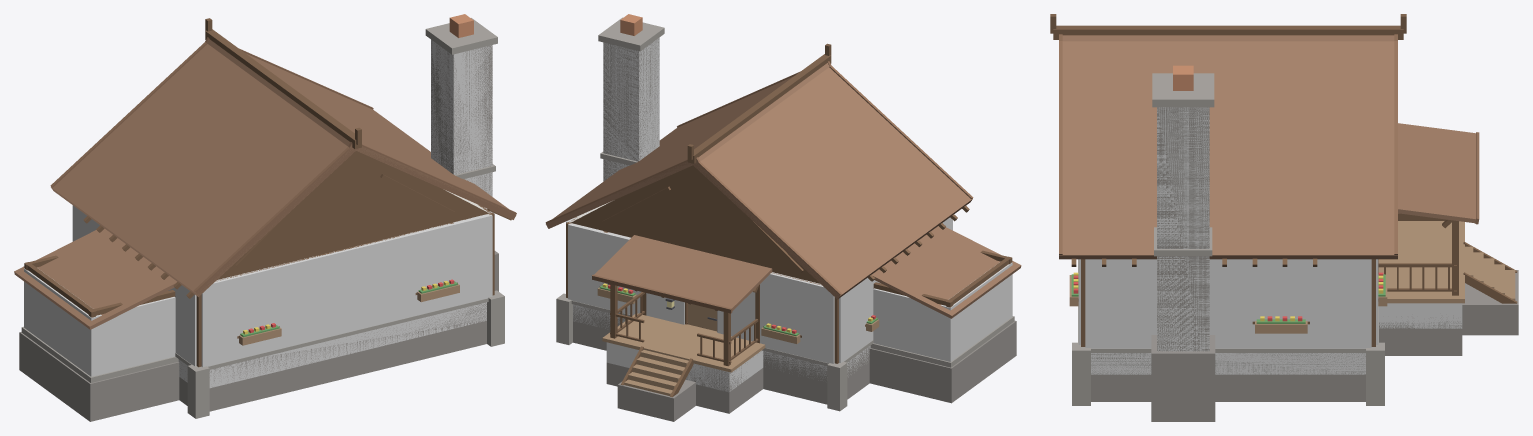
The model's file is farmhouse_exterior.glb.
3 renders of one model, left to right at view 1: azimuth 30°, elevation 25°; view 2: azimuth 150°, elevation 25°; view 3: azimuth 270°, elevation 25°, orthographic. The views are drawn at different scales.
Parts seen in each view (by area): view 1: Roof_Slope_West, wall_north-col, Gable_North, Foundation_Plinth, shed-col, chimney-col, Woodshed_Roof, Roof_Slope_East, Woodshed_Foundation, foundation-col, Chimney_Breast, wall_west-col (+11 smaller); view 2: Roof_Slope_West, Gable_South, Porch_Roof_Canopy, shed-col, chimney-col, Woodshed_Roof, wall_south_left-col, Roof_Slope_East, Woodshed_Foundation, Chimney_Breast, Foundation_Plinth, wall_south_right-col (+18 smaller); view 3: Roof_Slope_East, wall_east-col, Chimney_Breast, chimney-col, Foundation_Plinth, Porch_Roof_Canopy, Porch_Deck, Chimney_Plinth, foundation-col, Roof_Ridge_Beam, Porch_Foundation, Stair_Bed (+15 smaller).
Part boxes in pixels (bbox=[...]): Roof_Slope_West: bbox=[51, 44, 355, 296]; wall_north-col: bbox=[201, 213, 492, 367]; Gable_North: bbox=[217, 151, 489, 279]; Foundation_Plinth: bbox=[179, 303, 486, 411]; shed-col: bbox=[24, 268, 175, 376]; chimney-col: bbox=[431, 39, 492, 196]; Woodshed_Roof: bbox=[14, 228, 176, 329]; Roof_Slope_East: bbox=[207, 39, 516, 219]; Woodshed_Foundation: bbox=[19, 332, 179, 421]; foundation-col: bbox=[178, 302, 486, 388]; Chimney_Breast: bbox=[431, 41, 492, 195]; wall_west-col: bbox=[72, 205, 196, 366]; Roof_Slope_West: bbox=[694, 67, 972, 299]; Gable_South: bbox=[571, 165, 820, 283]; Porch_Roof_Canopy: bbox=[594, 235, 772, 310]; shed-col: bbox=[873, 262, 1012, 361]; chimney-col: bbox=[603, 37, 659, 181]; Woodshed_Roof: bbox=[872, 226, 1021, 318]; wall_south_left-col: bbox=[717, 272, 834, 363]; Roof_Slope_East: bbox=[546, 63, 829, 228]; Woodshed_Foundation: bbox=[869, 320, 1016, 403]; Chimney_Breast: bbox=[603, 38, 659, 180]; Foundation_Plinth: bbox=[573, 305, 870, 404]; wall_south_right-col: bbox=[568, 223, 684, 324]; Roof_Slope_East: bbox=[1059, 41, 1397, 259]; wall_east-col: bbox=[1085, 259, 1371, 348]; Chimney_Breast: bbox=[1157, 107, 1209, 351]; chimney-col: bbox=[1157, 107, 1209, 351]; Foundation_Plinth: bbox=[1091, 353, 1365, 401]; Porch_Roof_Canopy: bbox=[1398, 123, 1475, 223]; Porch_Deck: bbox=[1378, 221, 1464, 303]; Chimney_Plinth: bbox=[1151, 335, 1215, 421]; foundation-col: bbox=[1091, 353, 1365, 374]; Roof_Ridge_Beam: bbox=[1053, 25, 1403, 39]; Porch_Foundation: bbox=[1379, 315, 1462, 355]; Stair_Bed: bbox=[1462, 270, 1518, 335].
Bounding box in the file's own units: 15.16 × 9.9 × 12.43.
